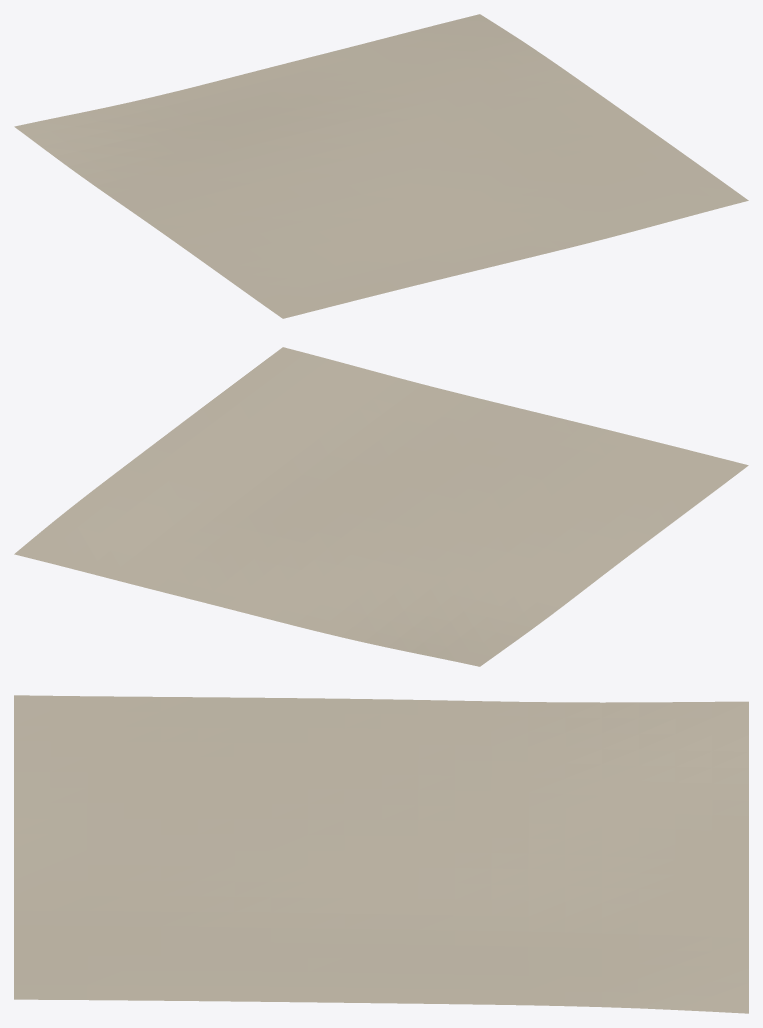
File: bolak_-29_7.glb
3 views of the same model, one above another, from view 1: azimuth 30°, elevation 25°; view 2: azimuth 150°, elevation 25°; view 3: azimuth 270°, elevation 25° (orthographic). The views are drawn at different scales.
Visible parts, largest first — view 1: Yer_Tuproq-col; view 2: Yer_Tuproq-col; view 3: Yer_Tuproq-col.
Boxes of the visible parts, x1,y1,x2,y2 form: Yer_Tuproq-col: [14, 14, 748, 318]; Yer_Tuproq-col: [14, 347, 748, 666]; Yer_Tuproq-col: [14, 695, 748, 1013].
Size of the model in its own units: 400 by 11.07 by 400.
